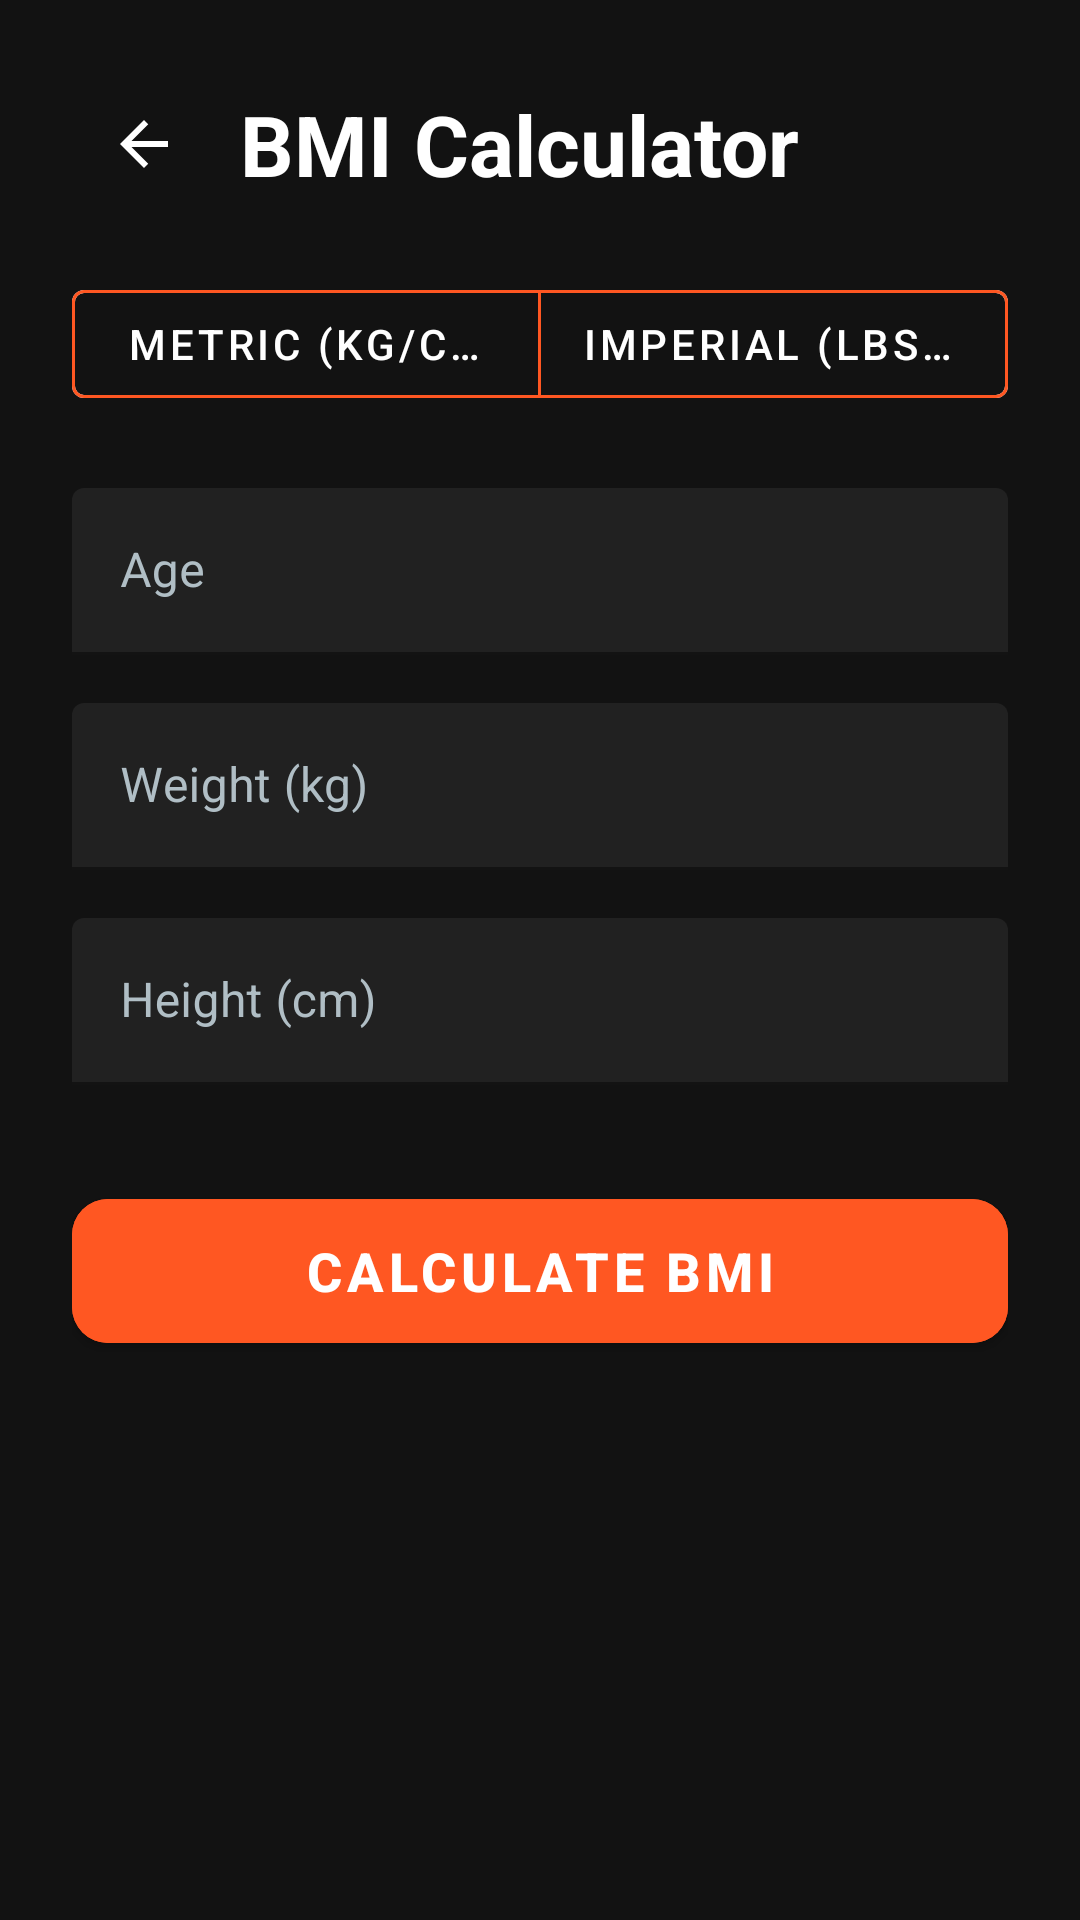

Icon click points for this 1080w x 1920h phone screenshot, format [x,y]:
Go Back: [144,144]
